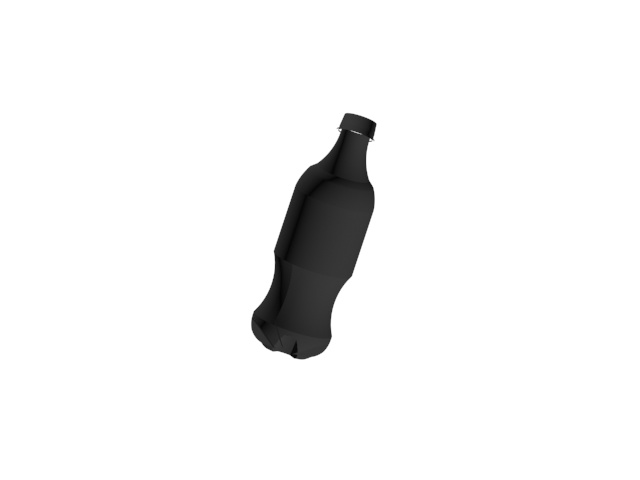bottle: (249, 113, 384, 360)
